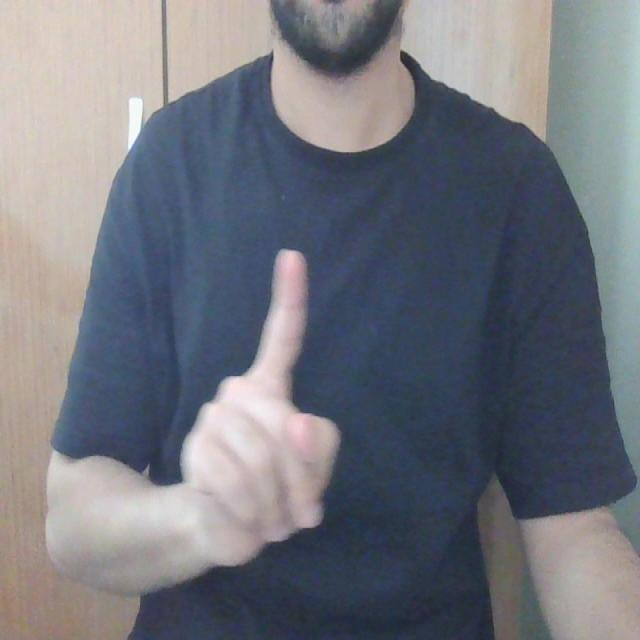Hayir: (180, 207, 337, 609)
